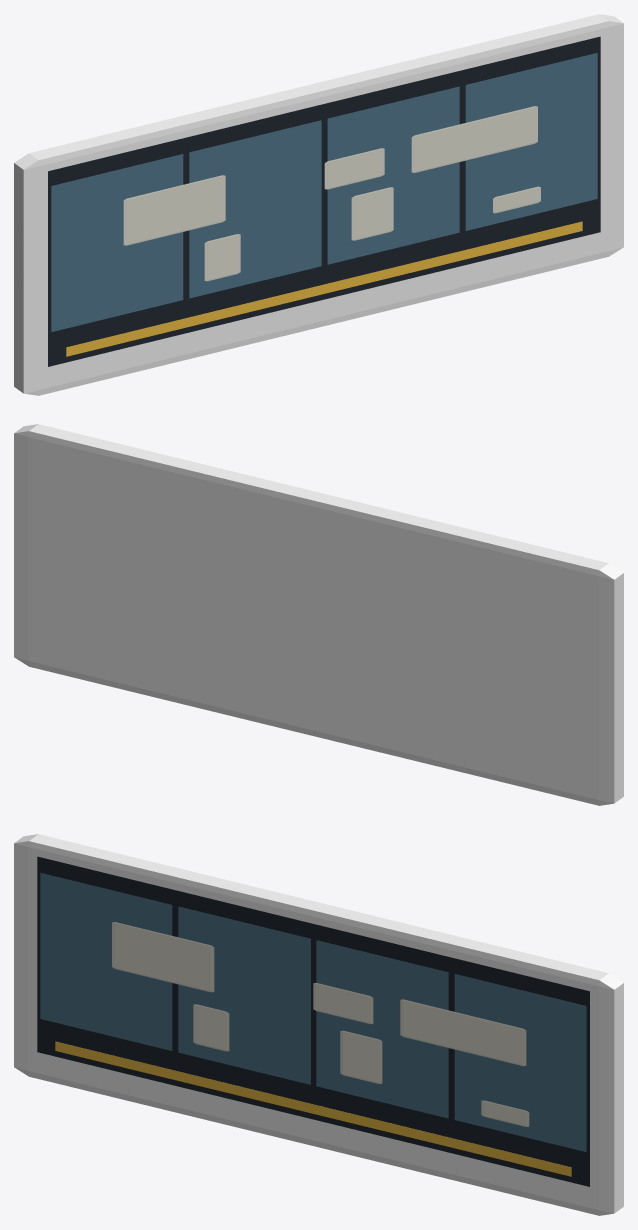
The model's file is video-wall.glb.
The picture shows the model from 3 angles, top to bottom: view 1: azimuth 30°, elevation 25°; view 2: azimuth 150°, elevation 25°; view 3: azimuth 330°, elevation 25°; orthographic projection.
Parts seen in each view (by area): view 1: video-wall; view 2: video-wall; view 3: video-wall.
Boxes of the visible parts, x1=… form: video-wall: x1=14, y1=14, x2=623, y2=395; video-wall: x1=14, y1=424, x2=623, y2=805; video-wall: x1=14, y1=834, x2=623, y2=1215.
Size of the model in its own units: 8 by 3 by 0.25.
